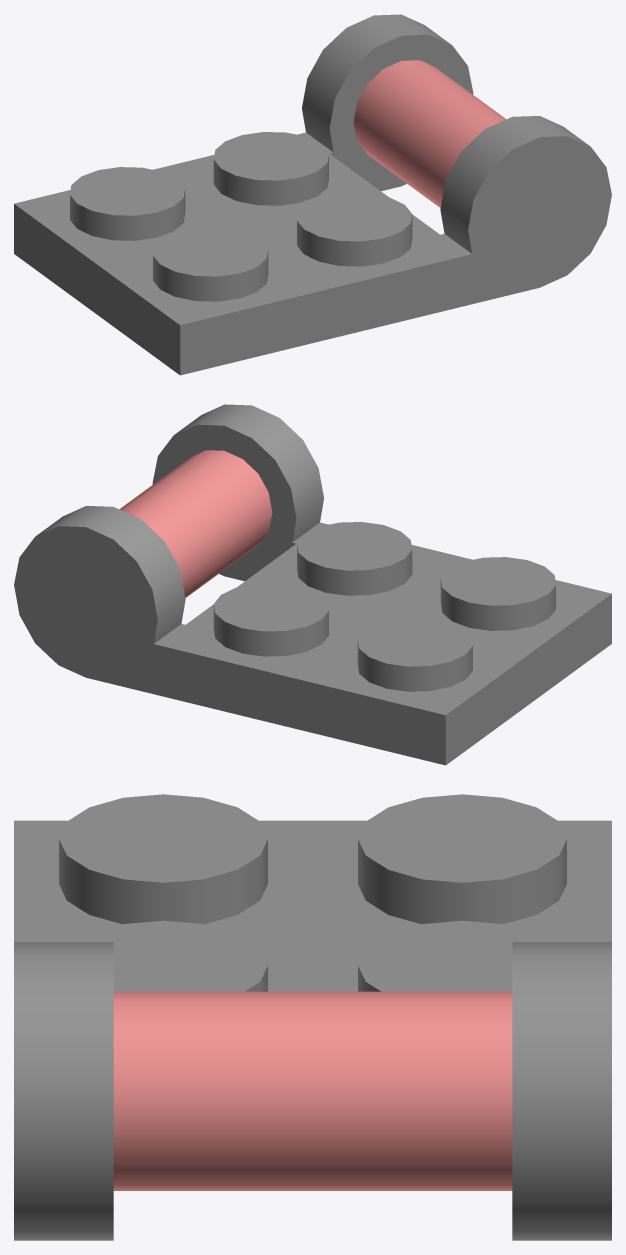
File: SM_Winch_3x2x1.gltf
The picture shows the model from 3 angles, top to bottom: view 1: azimuth 30°, elevation 25°; view 2: azimuth 150°, elevation 25°; view 3: azimuth 270°, elevation 25°; orthographic projection. The views are drawn at different scales.
Parts seen in each view (by area): view 1: SM_Winch_3x2x1; view 2: SM_Winch_3x2x1; view 3: SM_Winch_3x2x1.
Part boxes in pixels (left/top/right/bottom): SM_Winch_3x2x1: left=14, top=14, right=611, bottom=375; SM_Winch_3x2x1: left=14, top=404, right=611, bottom=765; SM_Winch_3x2x1: left=14, top=794, right=611, bottom=1240.
Bounding box in the file's own units: 0.9 × 0.3 × 0.6.
